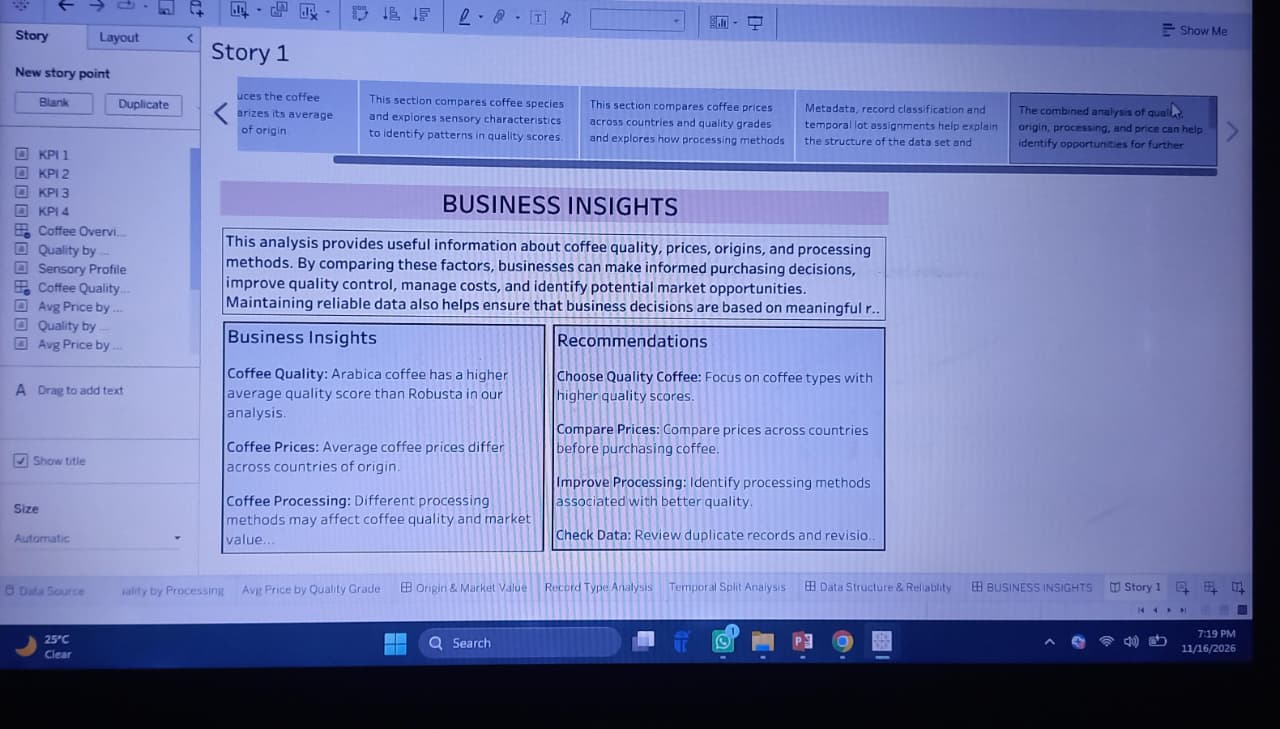

Layout of this report page (visuals, bound fields, positions):
{"tool":"tableau","page":{"name":"BUSINESS INSIGHTS","canvas":[1000,1000],"units":"permille","ordinal":0},"visuals":[{"type":"title","box":[10.7,14.3,978.7,80.4]},{"type":"text","box":[18.7,146.4,962.7,217.9]},{"type":"text","box":[20,380.4,458.7,587.5]},{"type":"text","box":[489.3,380.4,492,583.9]}]}

Visuals, with their boxes on the dashboard's canvas, which has no fixed pixel size, in thousandths of its width and height (x1, y1, x2, y2). These are canvas units, not pixel positions in the 1280x729 screenshot, which may show the page scaled, cropped or inside an application window:
title: Rect(11, 14, 989, 95)
text: Rect(19, 146, 981, 364)
text: Rect(20, 380, 479, 968)
text: Rect(489, 380, 981, 964)
